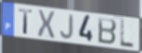4: (78, 14, 96, 45)
B: (97, 17, 117, 46)
J: (59, 14, 74, 41)
L: (119, 18, 136, 49)
T: (18, 8, 34, 36)
X: (36, 8, 56, 40)
